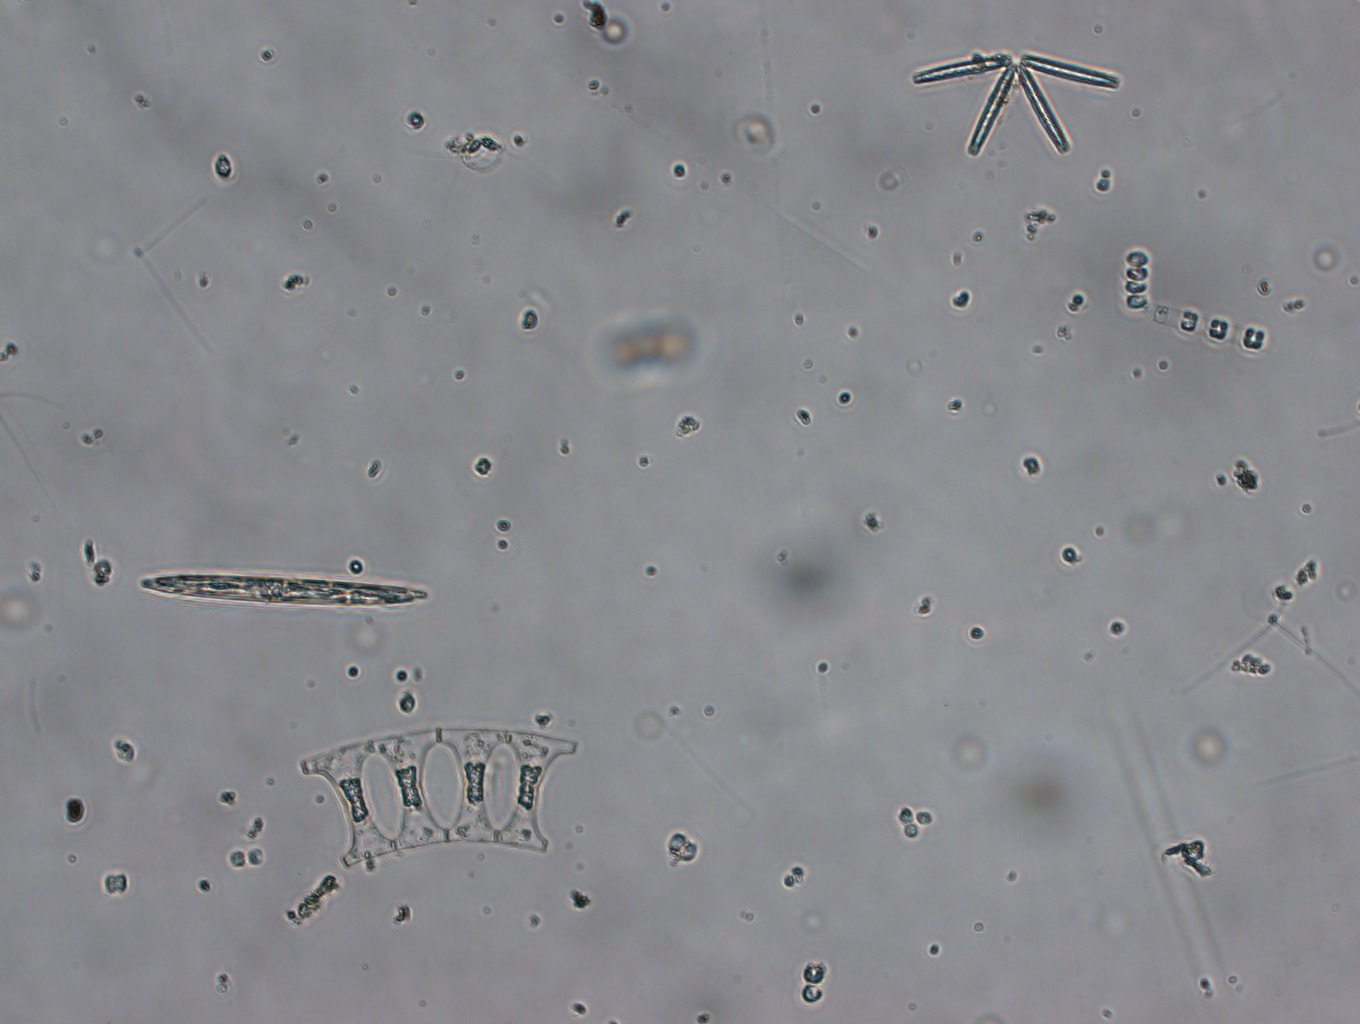eucampia: (299, 724, 578, 868)
navicula: (140, 572, 435, 610)
skeletonema: (1123, 246, 1269, 357)
thalassionema nitzschioides: (910, 49, 1120, 158)
